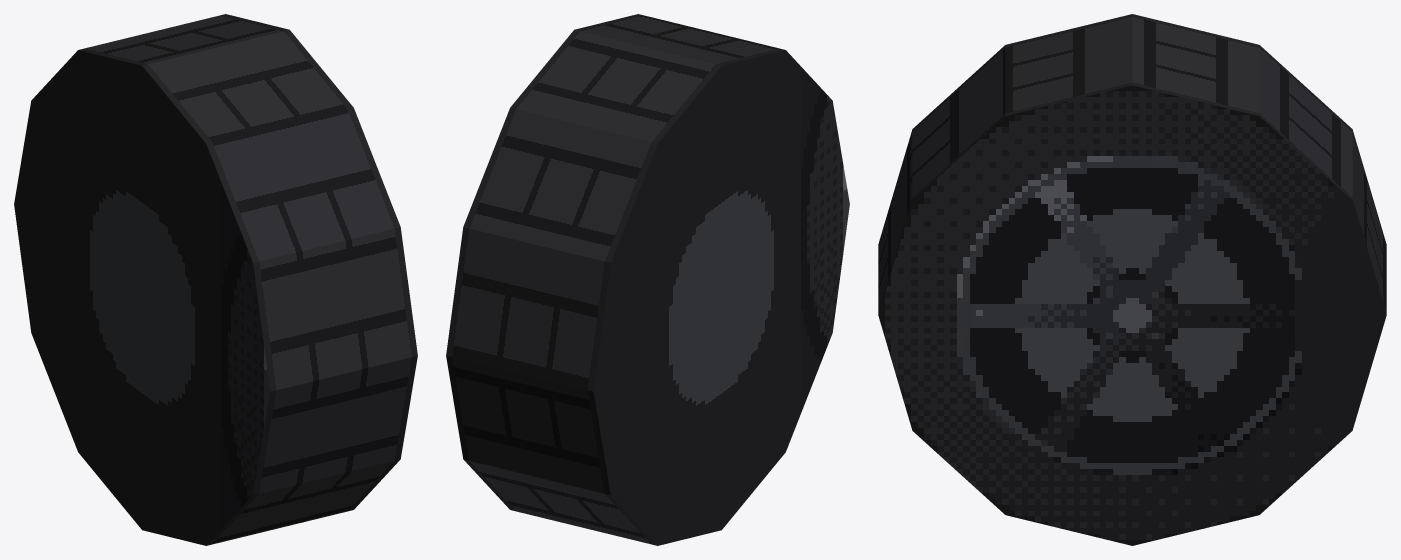
The model's file is wheel_black6.glb.
3 views of the same model, side by side, from view 1: azimuth 30°, elevation 25°; view 2: azimuth 150°, elevation 25°; view 3: azimuth 270°, elevation 25° (orthographic).
Visible parts, largest first — view 1: wheel_black6; view 2: wheel_black6; view 3: wheel_black6.
Part boxes in pixels (x1,y1,x2,y2): wheel_black6: (14,14,417,545); wheel_black6: (446,14,849,545); wheel_black6: (878,14,1386,545).
Size of the model in its own units: 0.205 by 0.6163 by 0.6163.
1 material, 1 textured.
